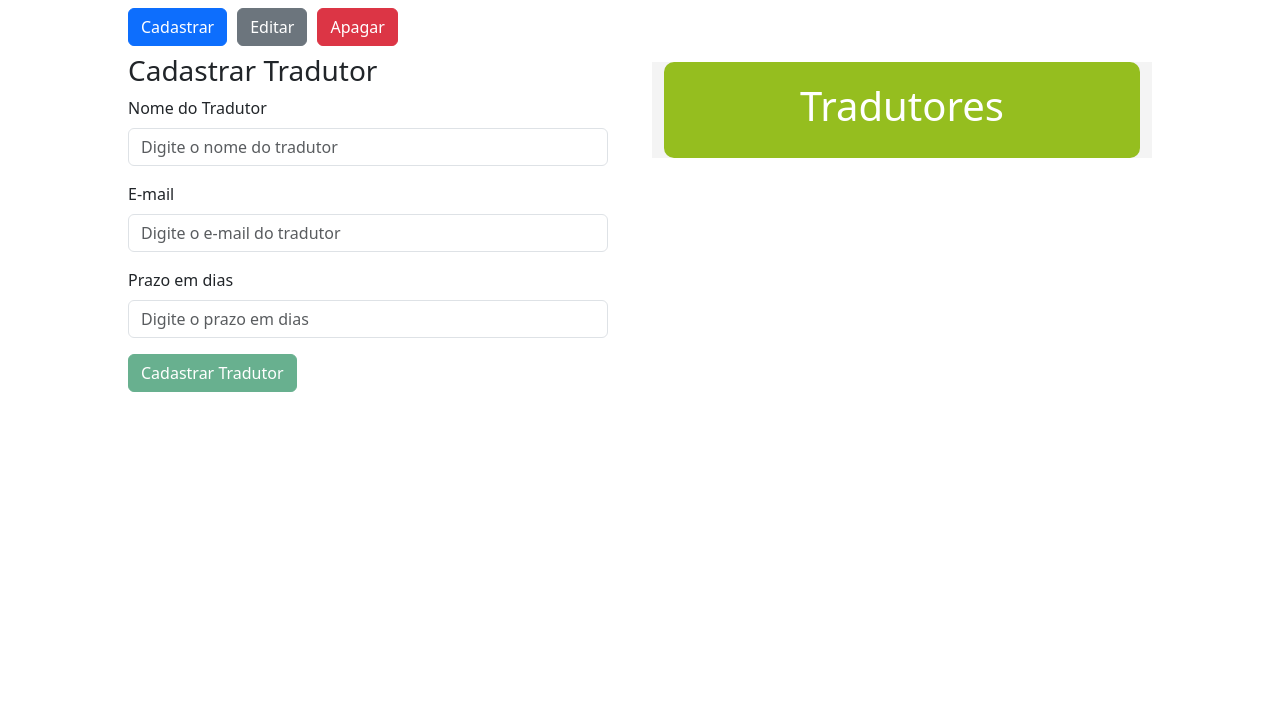
it: Translator Component › muda para modo de edição e edita tradutor
# Clica no botão "Editar" para abrir o modo edição
Click the button "Editar" at (272, 27), box [237,8,307,46]
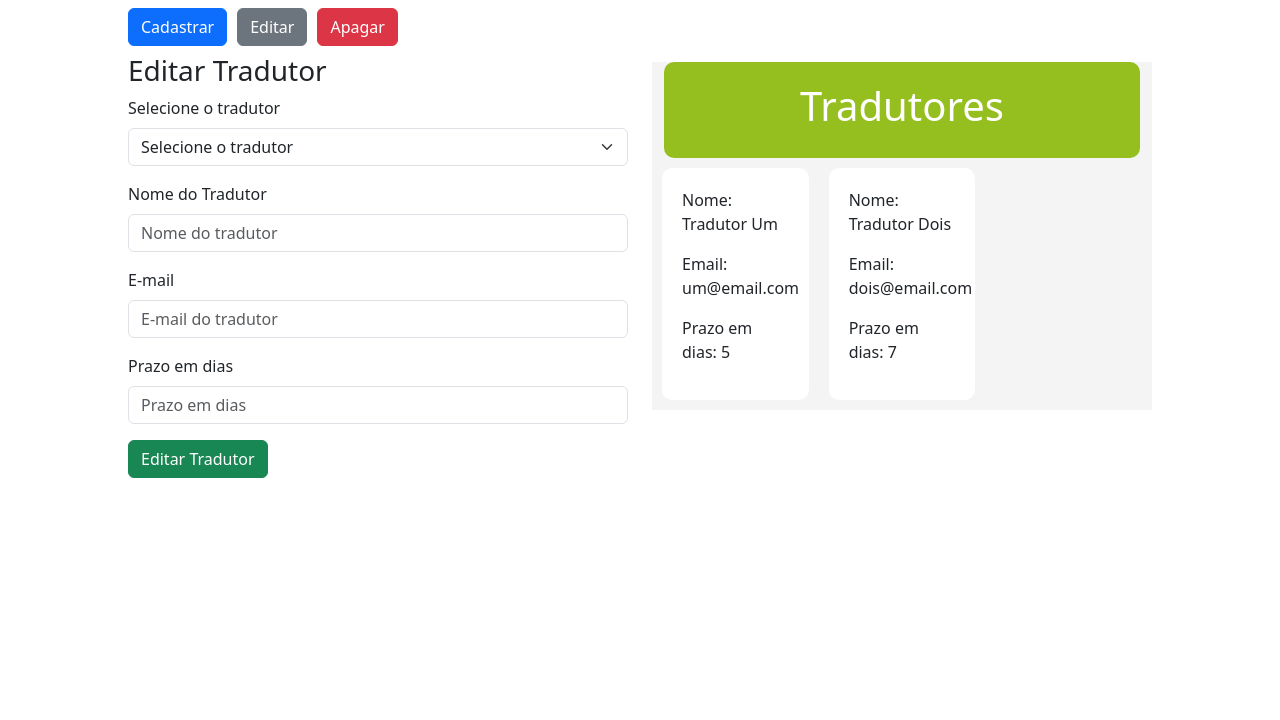
Now the heading "Editar Tradutor" is shown, box [128,51,327,89]
# Seleciona o tradutor com id 1
Select "Tradutor Um" in the dropdown labelled "Selecione o tradutor" at (378, 147), box [128,128,628,166]
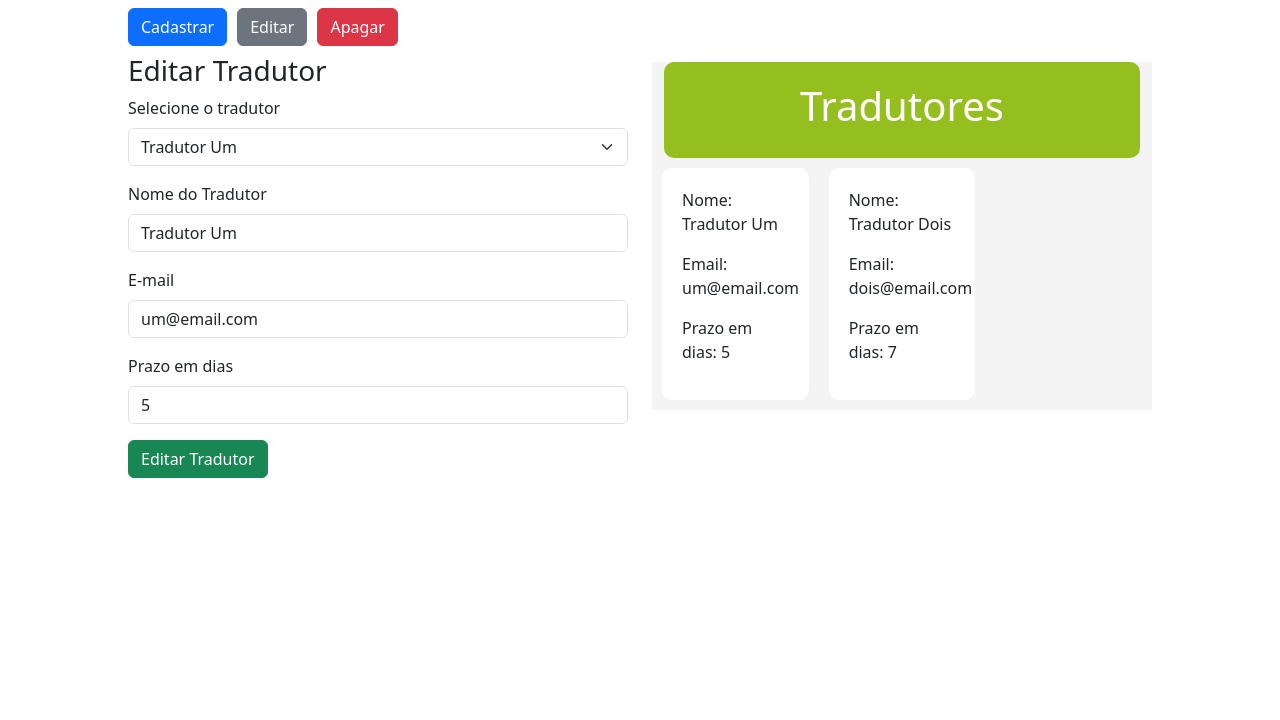
Now the field labelled "Nome do Tradutor" holds "Tradutor Um", box [128,214,628,252]
# Muda o prazo em dias para 15
Replace the text in the number field with placeholder "Prazo em dias" with "15" at (378, 405), box [128,386,628,424]
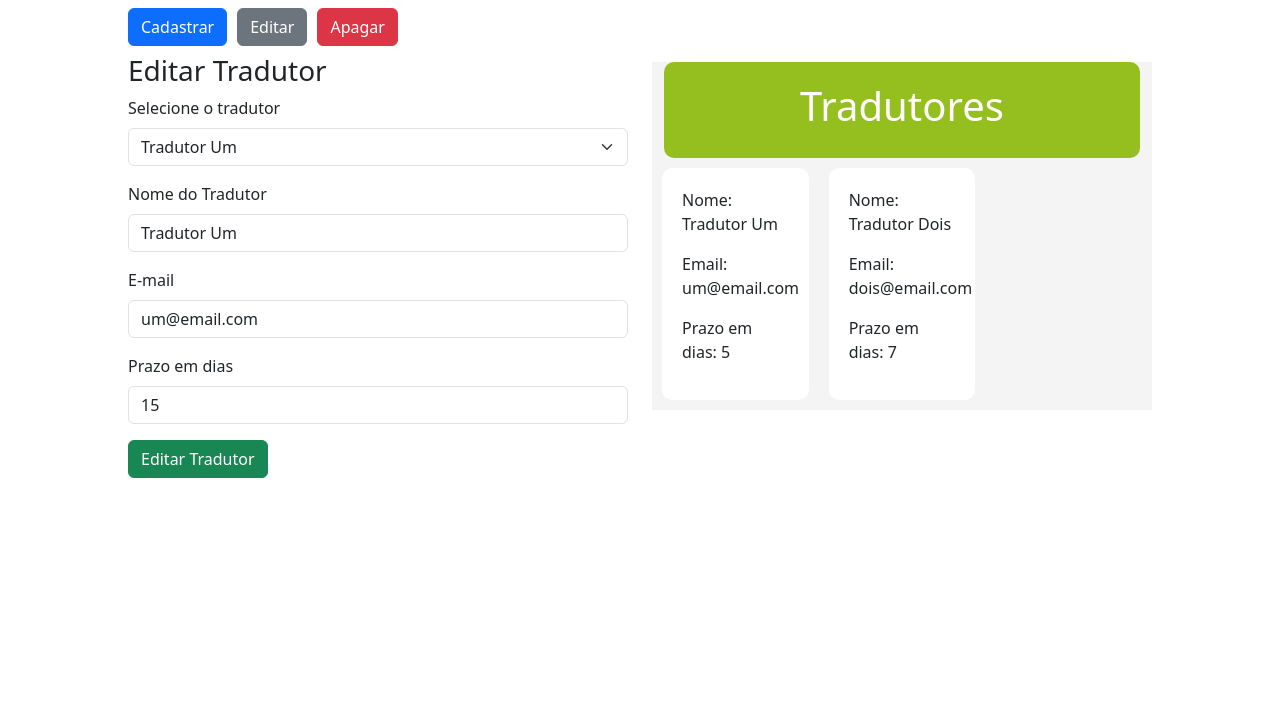
# Clica no botão "Editar Tradutor" para submeter
Click the button "Editar Tradutor" at (198, 459), box [128,440,268,478]
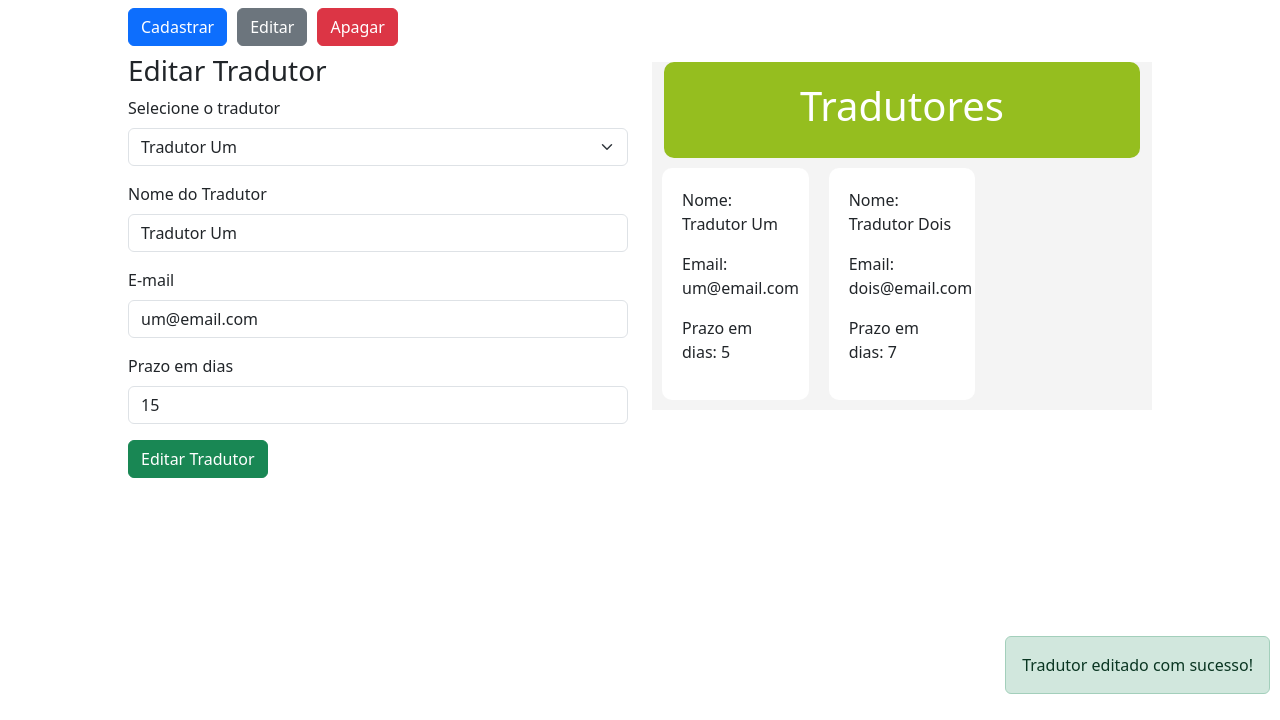
Now the text "Tradutor editado com sucesso!" is shown, box [1005,636,1270,694]
